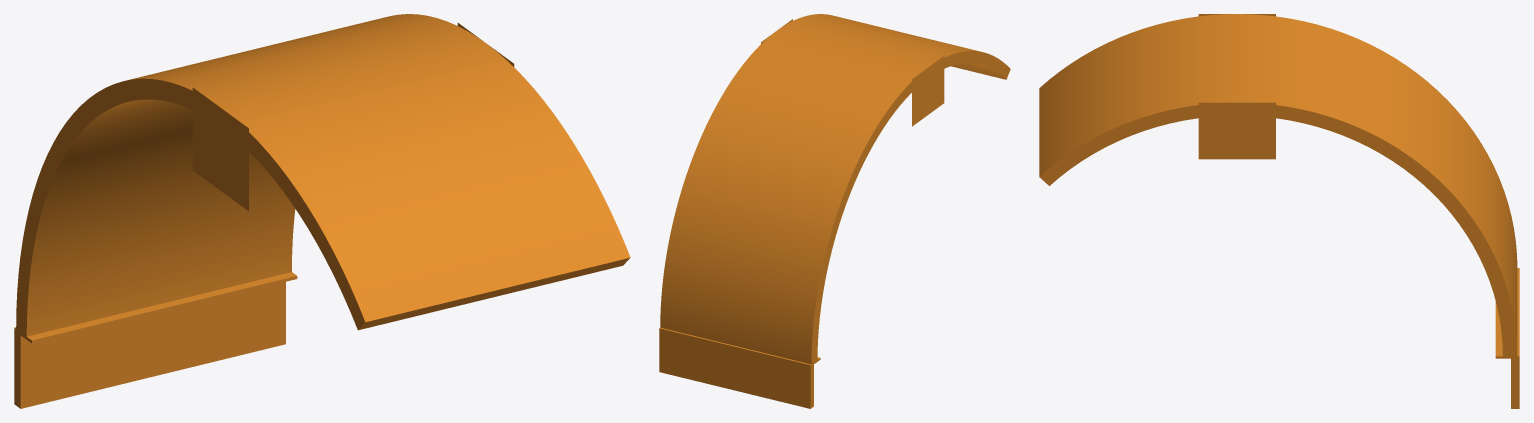
File: elev_capa.glb
3 views of the same model, side by side, from view 1: azimuth 30°, elevation 25°; view 2: azimuth 150°, elevation 25°; view 3: azimuth 270°, elevation 25° (orthographic). The views are drawn at different scales.
Visible parts, largest first — view 1: elev_capa; view 2: elev_capa; view 3: elev_capa.
Boxes of the visible parts, x1,y1,x2,y2 form: elev_capa: (14,14,630,408); elev_capa: (659,14,1010,408); elev_capa: (1039,14,1519,408).
Size of the model in its own units: 43.4 by 70 by 99.51.
